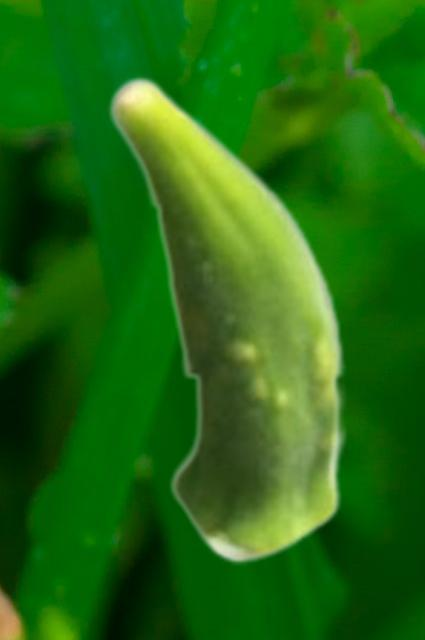okra: (106, 74, 348, 564)
